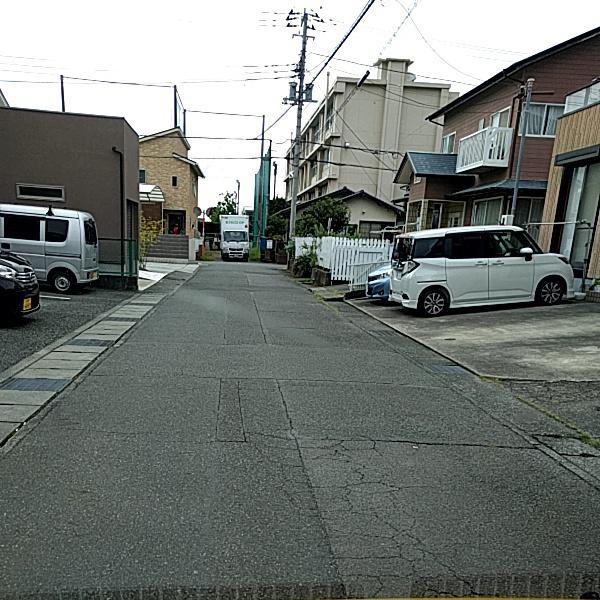D20: (256, 423, 478, 596)
